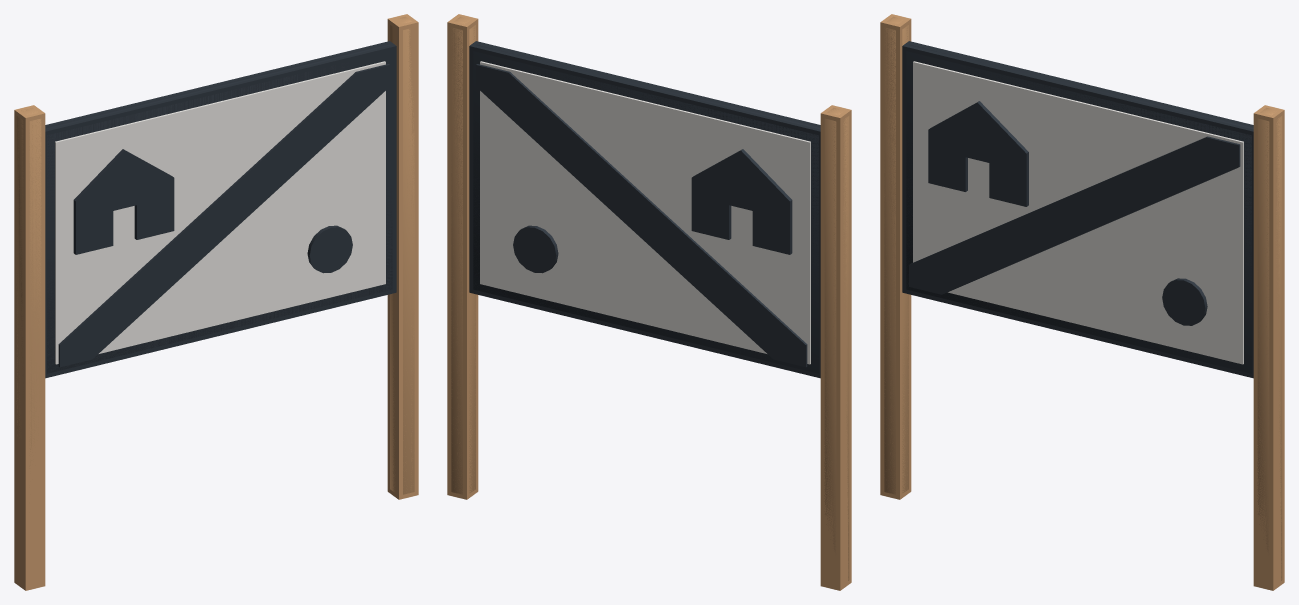
The model's file is PRP_PERMIT_BOARD_A_v001.glb.
The picture shows the model from 3 angles, left to right: view 1: azimuth 30°, elevation 25°; view 2: azimuth 150°, elevation 25°; view 3: azimuth 330°, elevation 25°; orthographic projection.
Visible parts, largest first — view 1: PRP_PERMIT_BOARD_A_BOARD, PRP_PERMIT_BOARD_A_BOARD_LOW, PRP_PERMIT_BOARD_A_BAND; view 2: PRP_PERMIT_BOARD_A_BOARD, PRP_PERMIT_BOARD_A_BOARD_LOW, PRP_PERMIT_BOARD_A_BAND; view 3: PRP_PERMIT_BOARD_A_BOARD, PRP_PERMIT_BOARD_A_BOARD_LOW, PRP_PERMIT_BOARD_A_BAND.
Part boxes in pixels (x1,y1,x2,y2): PRP_PERMIT_BOARD_A_BOARD: (16,16,414,494); PRP_PERMIT_BOARD_A_BOARD_LOW: (14,14,418,590); PRP_PERMIT_BOARD_A_BAND: (58,64,389,367); PRP_PERMIT_BOARD_A_BOARD: (451,16,849,580); PRP_PERMIT_BOARD_A_BOARD_LOW: (447,14,851,590); PRP_PERMIT_BOARD_A_BAND: (476,64,807,367); PRP_PERMIT_BOARD_A_BOARD: (884,16,1282,580); PRP_PERMIT_BOARD_A_BOARD_LOW: (880,14,1284,590); PRP_PERMIT_BOARD_A_BAND: (909,136,1240,294).
Size of the model in its own units: 2 by 2.3 by 0.148.
